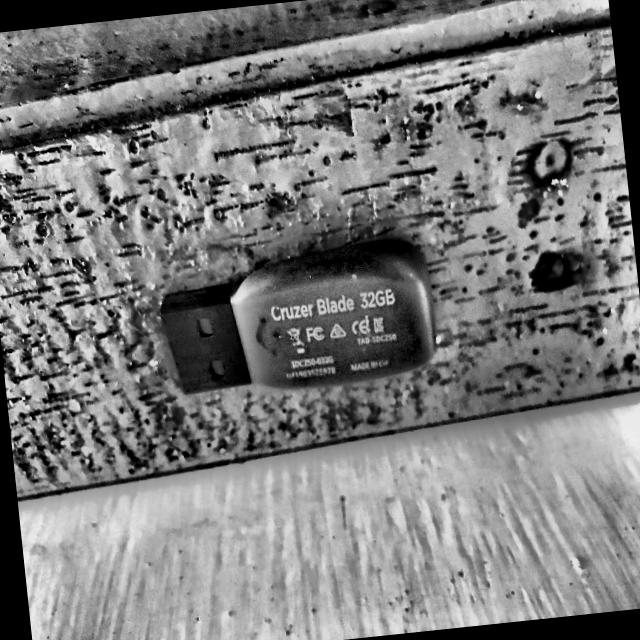Flash-drive: (154, 239, 442, 406)
